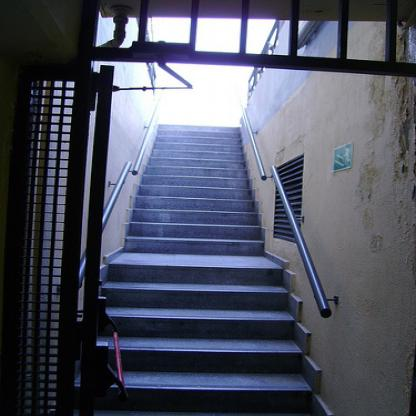stairs: (130, 265, 276, 414)
